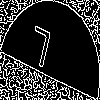L: (25, 25, 53, 78)
